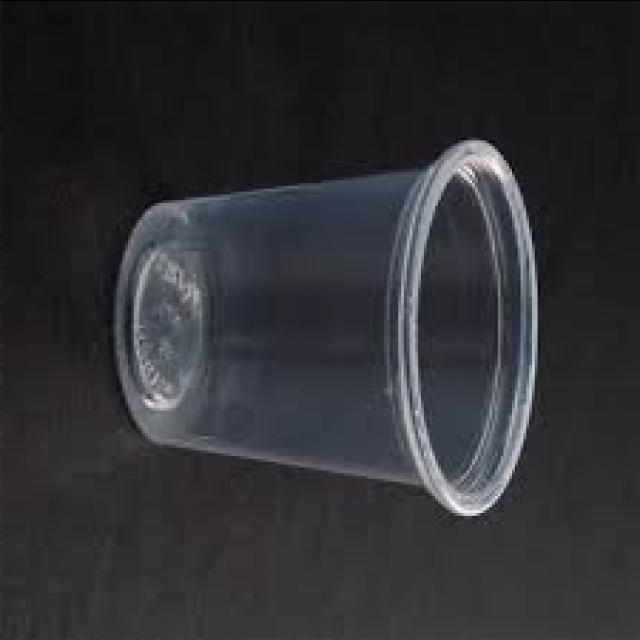plastic: (114, 139, 538, 514)
